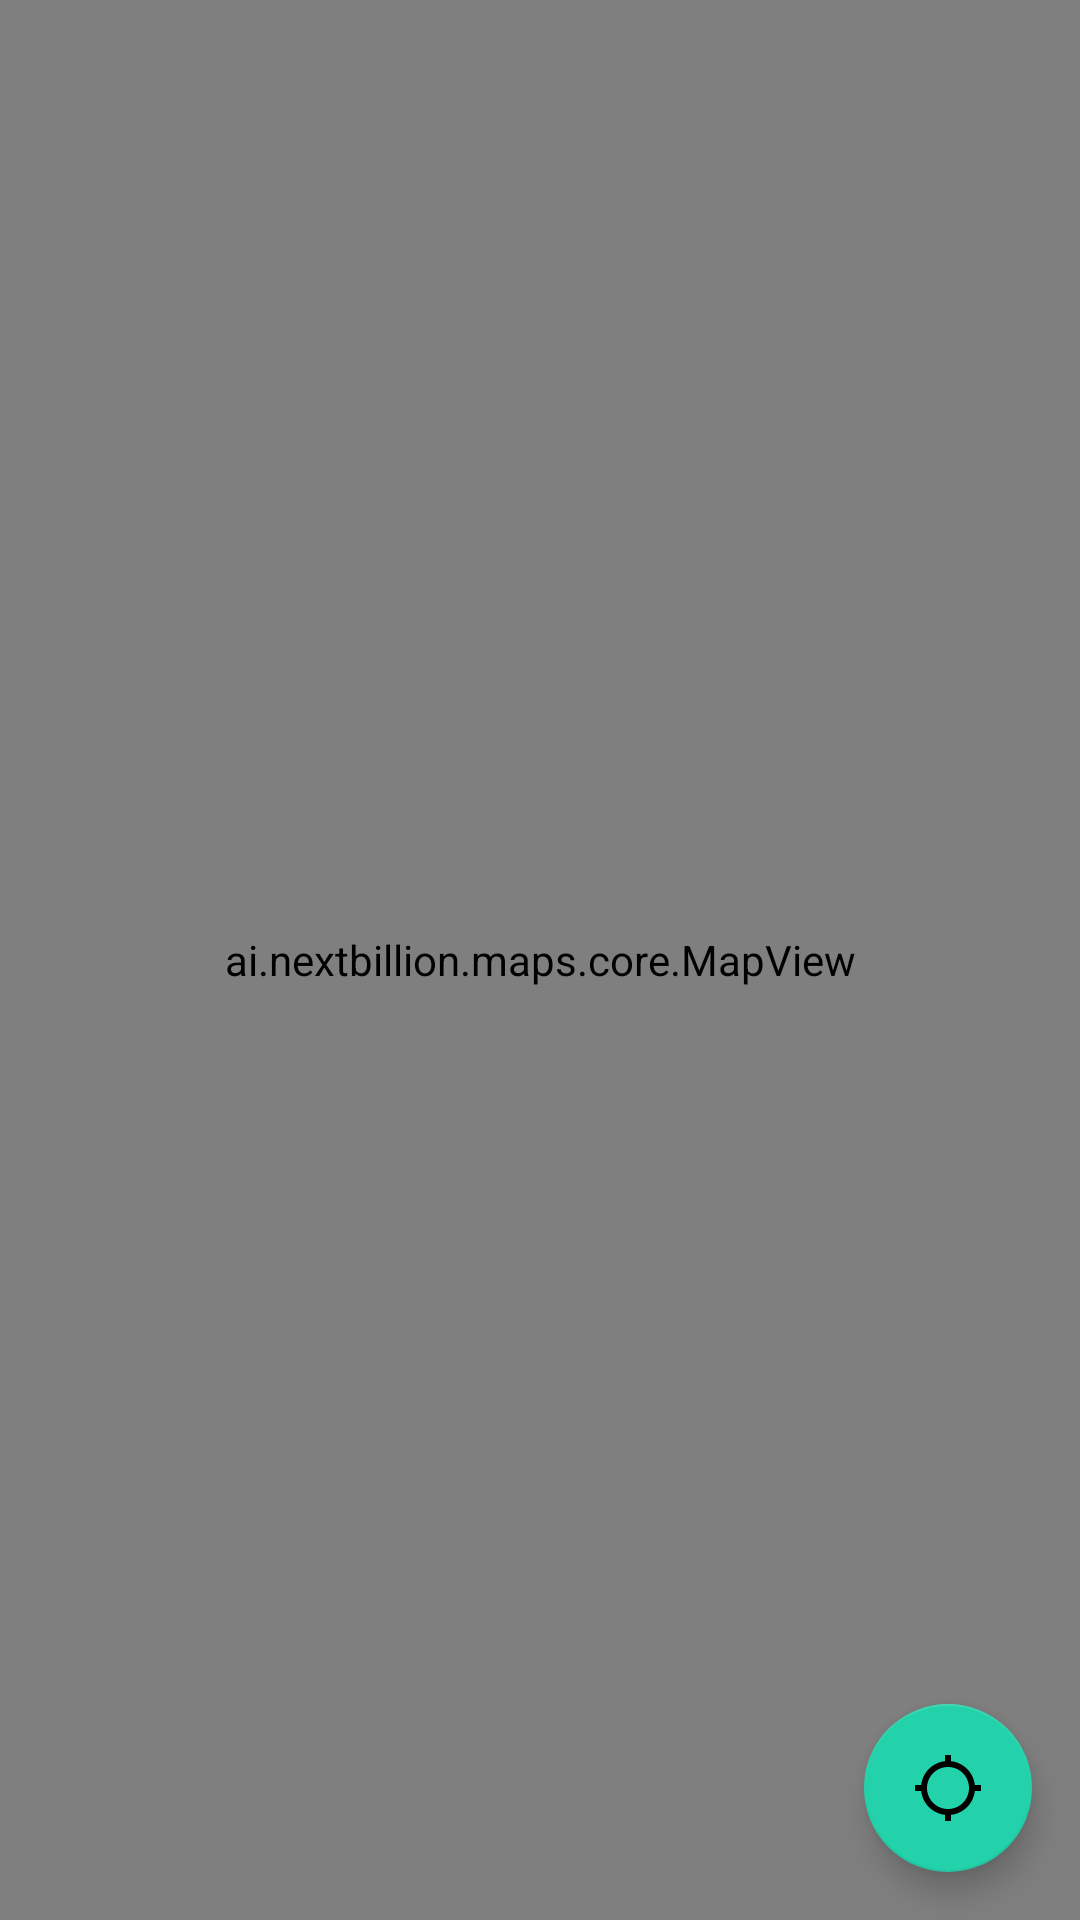

Screen size 1080 × 1920. Icon name, then its center in pixels as point (x, y):
location searching: point (948, 1788)
